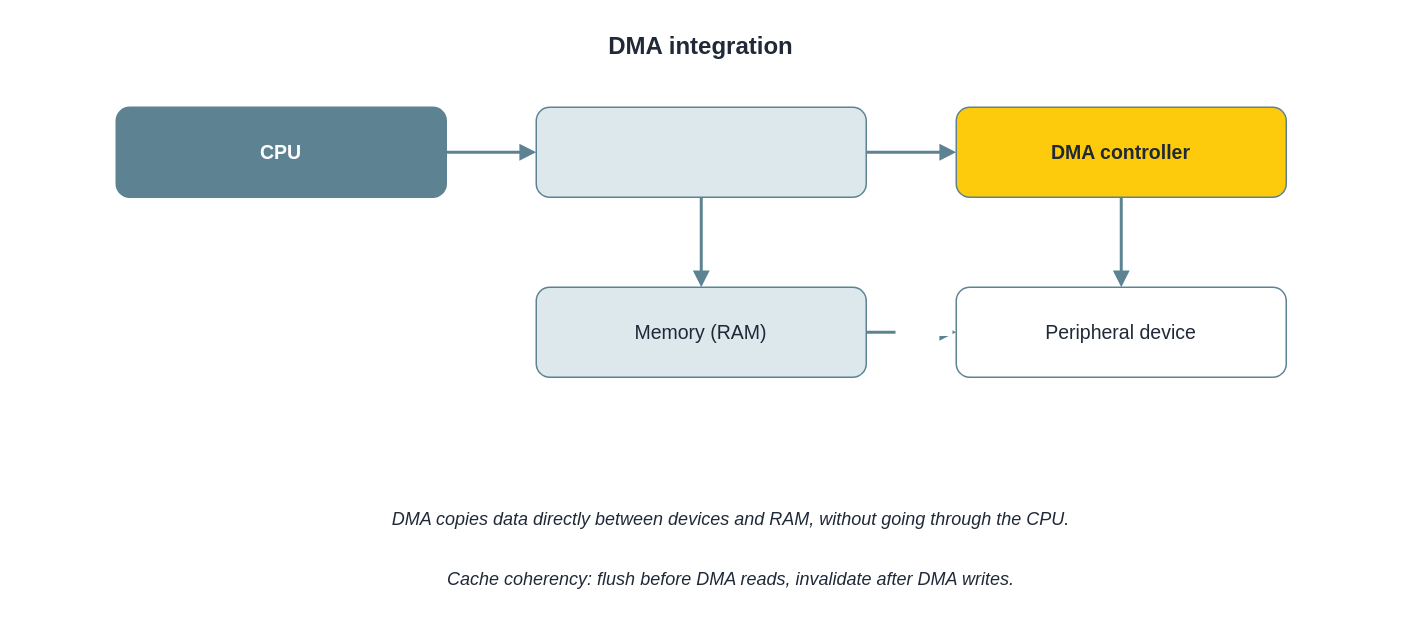
Some shapes in this 1401 by 627 pixel diagram are drawn without their labels. The shapes that lost their labels are listed below. From the top down, each one's box as (x1, y1, x2, y2) in pixels, then its label:
(535, 106, 866, 197): Data cache
(895, 301, 952, 335): bus
